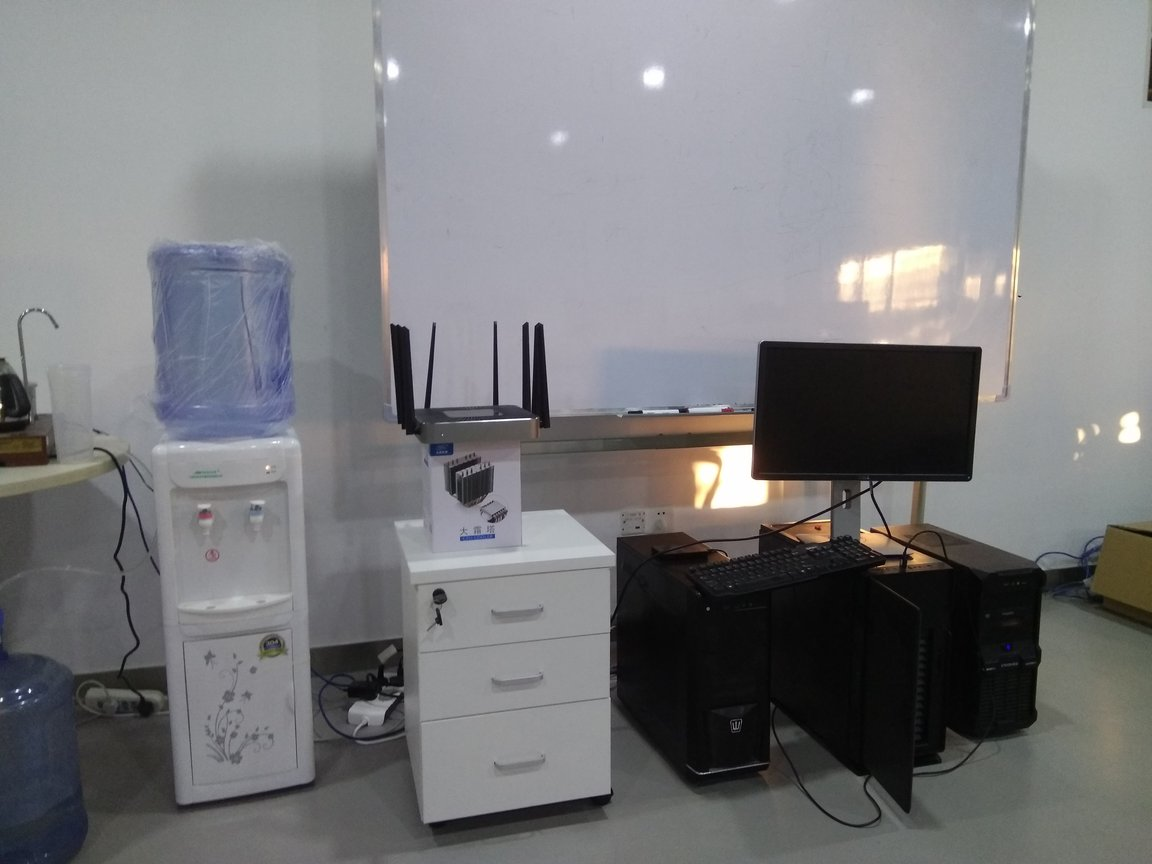computer: (758, 514, 951, 800), (618, 526, 778, 792), (885, 507, 1043, 754)
drawer chest: (389, 511, 632, 826)
monitor: (749, 333, 978, 549)
scuttlebutt: (145, 235, 302, 436), (1, 643, 92, 858)
water dispenser: (129, 429, 320, 799)
